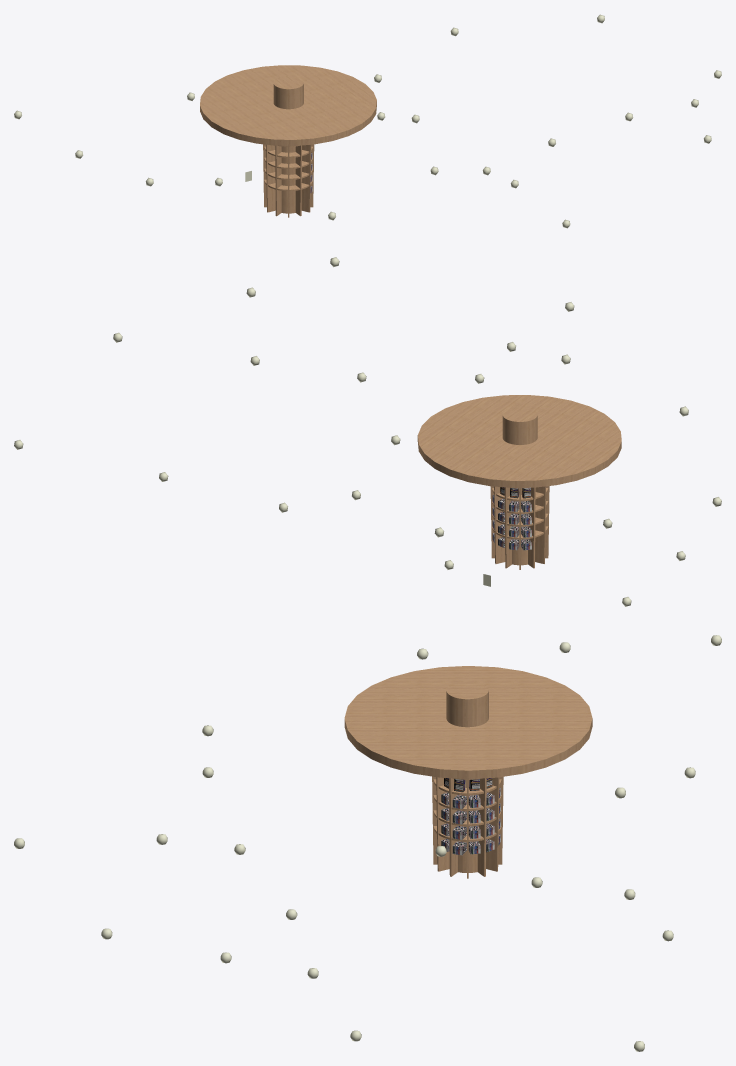
Rendered from 园书柱.fbx.
3 renders of one model, top to bottom at view 1: azimuth 30°, elevation 25°; view 2: azimuth 150°, elevation 25°; view 3: azimuth 270°, elevation 25°, orthographic. The views are drawn at different scales.
Parts seen in each view (by area): view 1: Mesh66, Mesh65; view 2: Mesh66, Group006, Mesh65; view 3: Mesh66, Group006, Mesh65.
Boxes of the visible parts, x1=… form: Mesh66: x1=200, y1=65, x2=376, y2=217; Mesh65: x1=273, y1=76, x2=303, y2=213; Mesh66: x1=417, y1=395, x2=621, y2=569; Group006: x1=492, y1=487, x2=531, y2=550; Mesh65: x1=502, y1=407, x2=537, y2=565; Mesh66: x1=344, y1=666, x2=592, y2=878; Group006: x1=441, y1=778, x2=500, y2=855; Mesh65: x1=446, y1=681, x2=488, y2=872.
Bounding box in the file's own units: 861 × 177 × 654.
